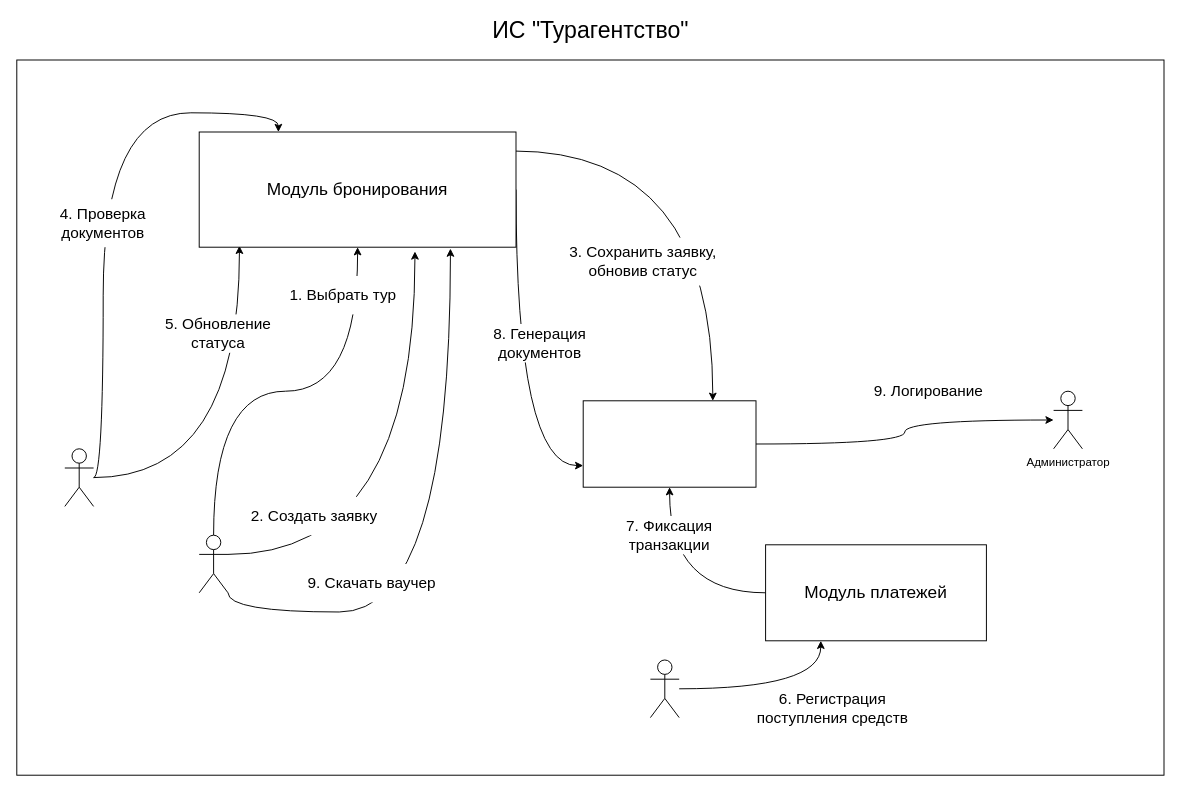
The diagram is 1181 pixels wide and 792 high, and some of its shapes have lost their labels. Each missing label, with the box of its shape:
БД: (582, 400, 756, 487)
Клиент: (198, 534, 228, 593)
Менеджер: (64, 448, 94, 506)
Финансовый специалист: (649, 659, 679, 718)
